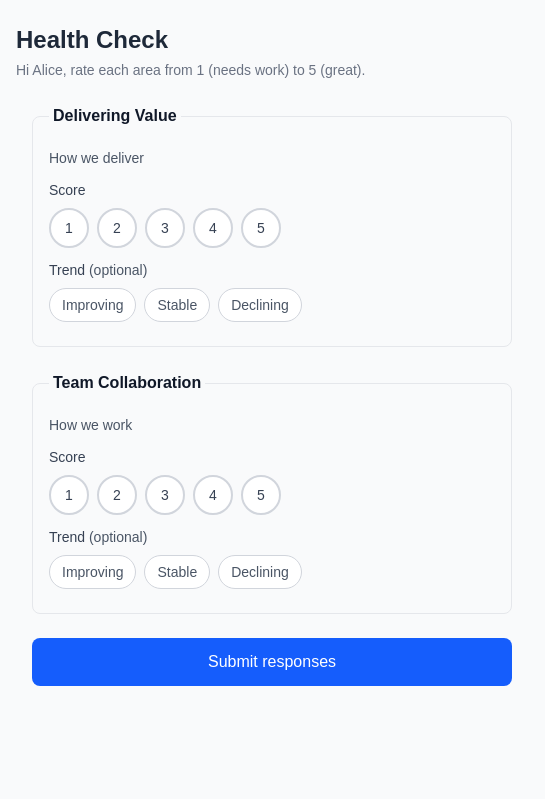
where the confirmation appears › sits with the control that was pressed, not above the form
The image size is (545, 799).
Expected: the element "Delivering Value" is shown, 32,104 -> 512,347
Click the radio button labelled "4" below "How we deliver". click: (213,228)
box: 193,208 -> 233,248
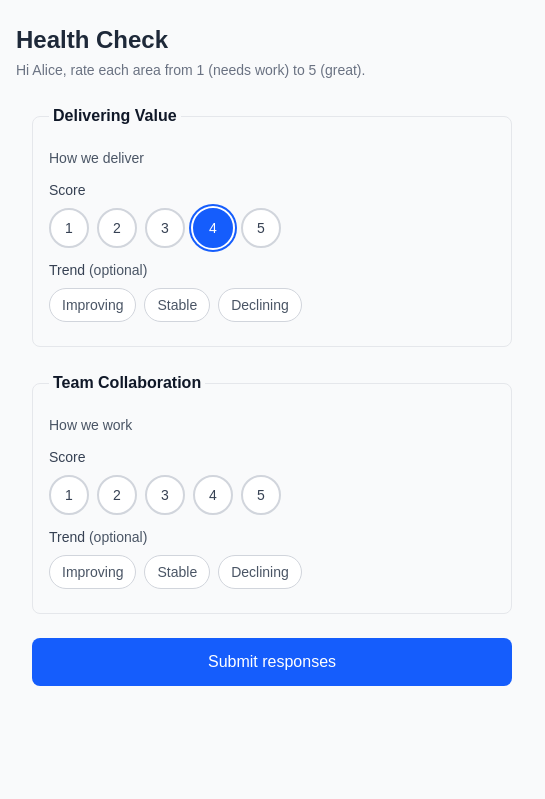
Click the radio button labelled "4" below "How we work". click: (213,495)
box: 193,475 -> 233,515
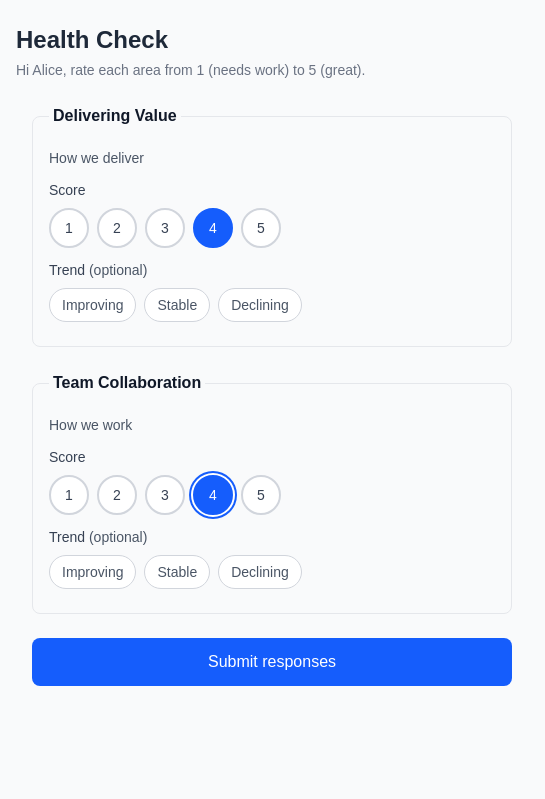
Click the button "Submit responses". click: (272,662)
box: 32,638 -> 512,686
(page scrolled)
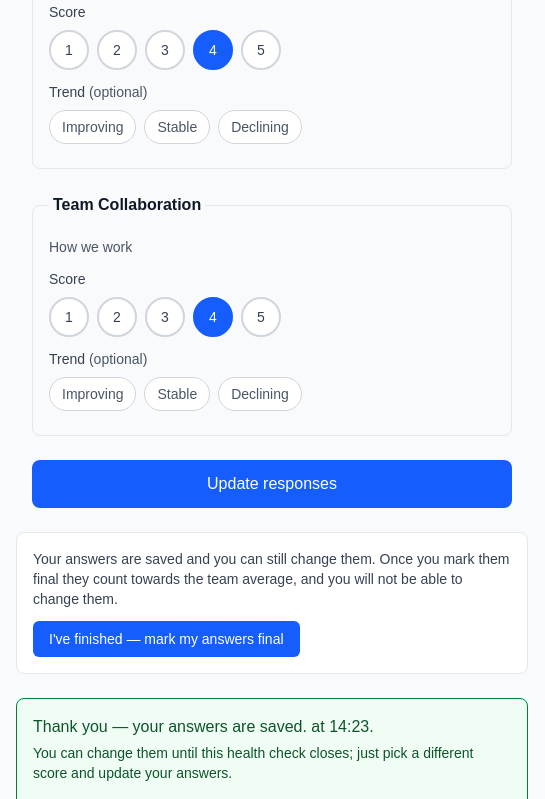
Expected: the button "Update responses" is shown, 32,460 -> 512,508
